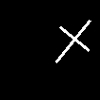single_crochet: (56, 20, 90, 62)
